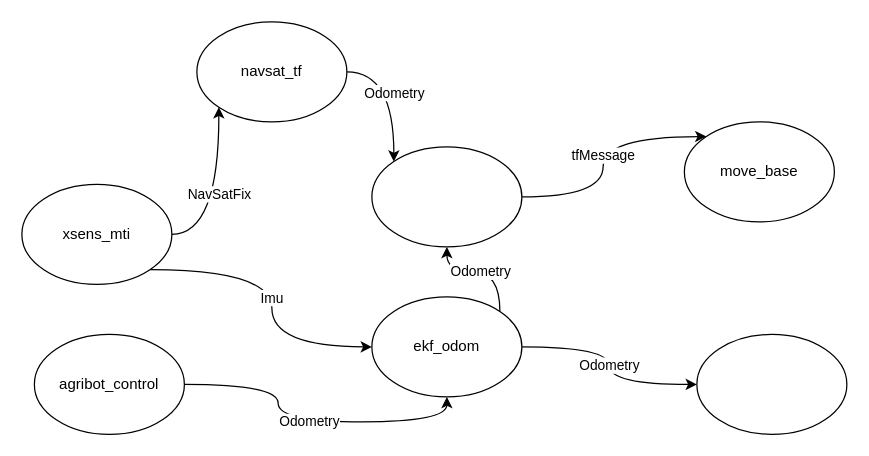
Image size: 869x456. Some labels were removed from this diagram. The centre of each missing label's shape, as x and y in pixels:
ekf_gnss: the point at 446,196
local_planner: the point at 771,383
